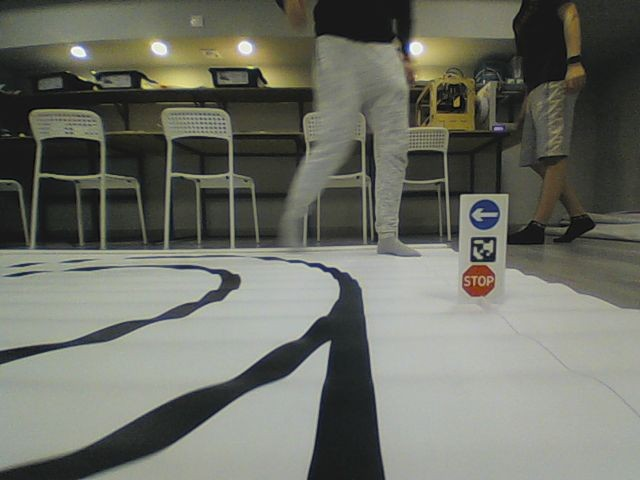Stop: (460, 263, 497, 298)
